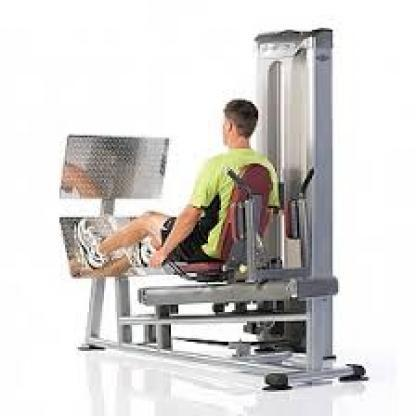leg press: (40, 24, 384, 407)
